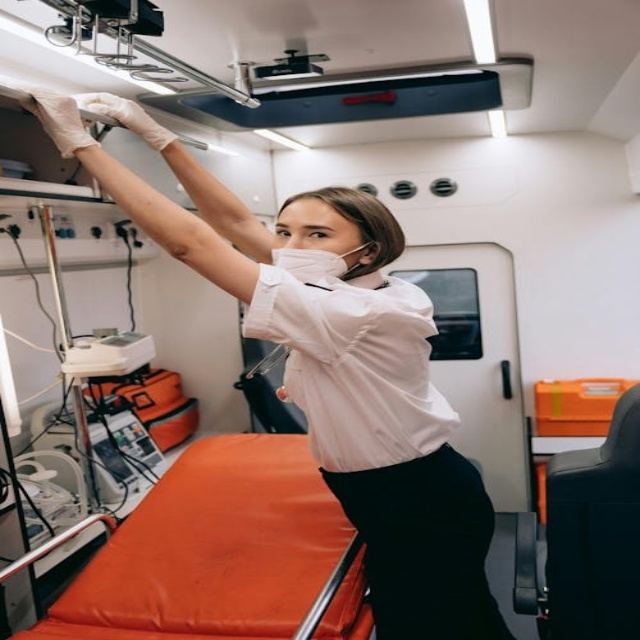Guantes: (65, 85, 180, 153), (16, 87, 101, 157)
Mascara: (272, 246, 357, 287)
Sin_gafas: (270, 218, 347, 242)
